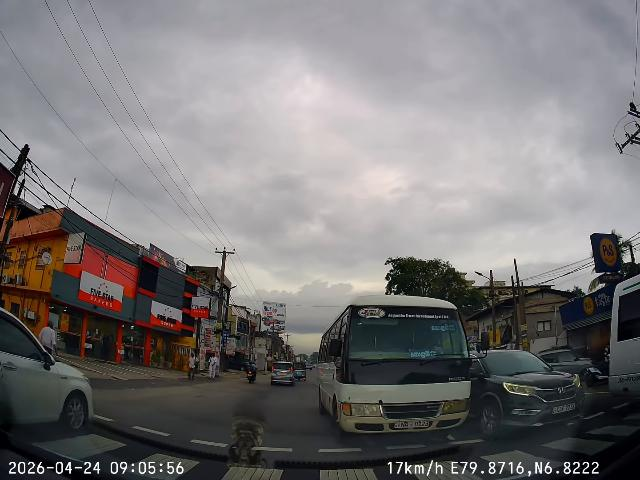illegal overtaking: (301, 290, 479, 447)
number plate: (383, 415, 434, 432)
